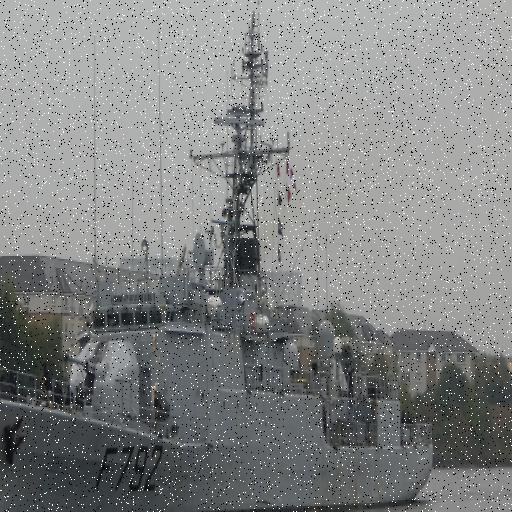Fragata: (1, 1, 438, 512)
